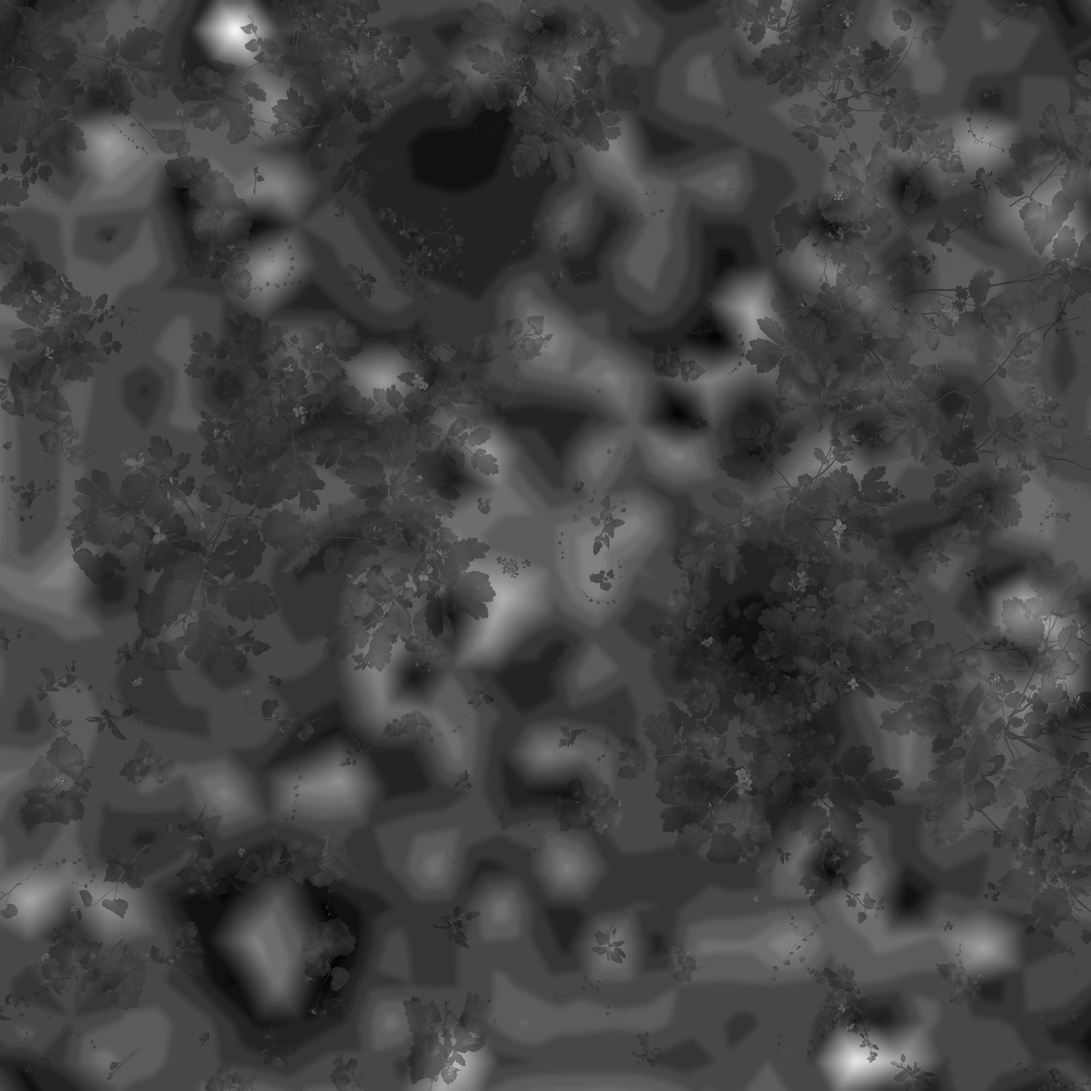landmine: (368, 94, 543, 260), (206, 868, 362, 1031), (696, 569, 829, 705)
